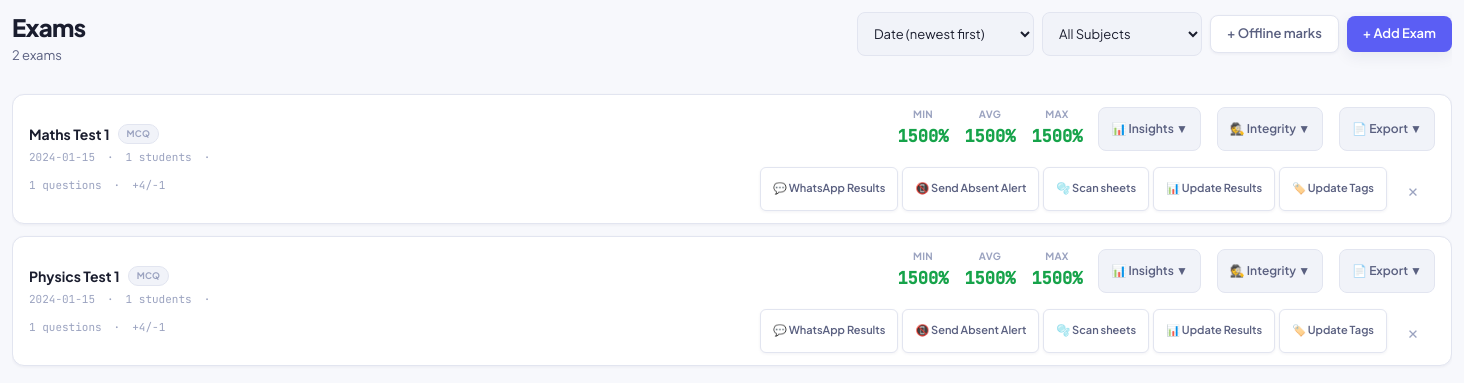
Scenario: Exams page — exam list filtering › restores all cards when switching back to "All Subjects"
Select "Maths" in the dropdown named "subject" at (1122, 34), box [1042,12,1202,56]
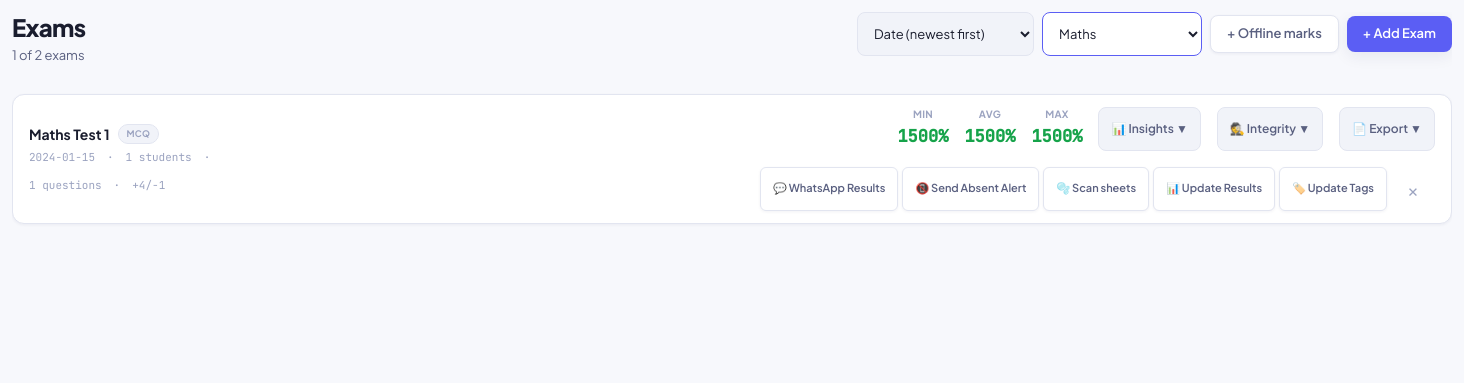
expect the text "Physics Test 1" is gone: met
Select "All Subjects" in the dropdown named "subject" at (1122, 34), box [1042,12,1202,56]
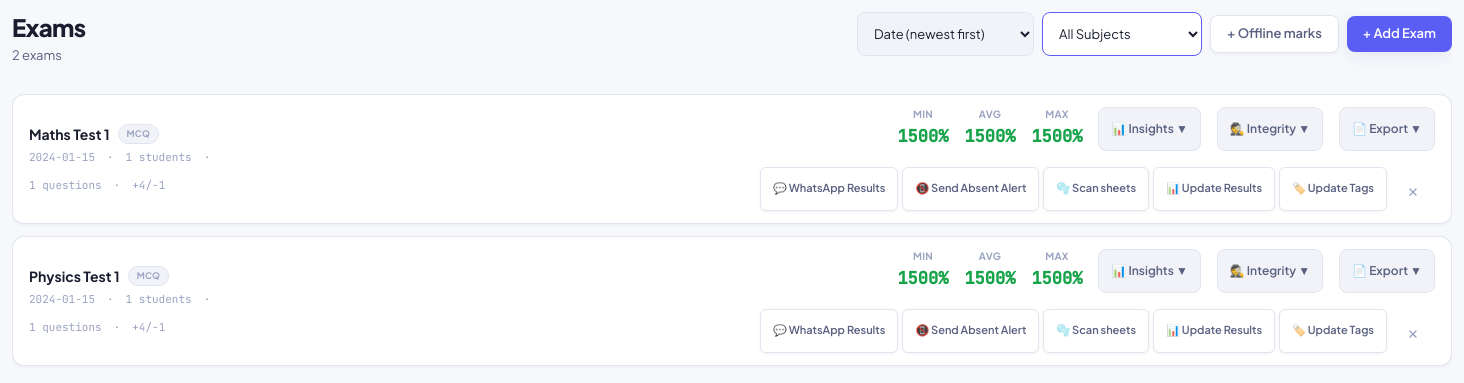
expect the text "Maths Test 1" is shown: met, box [29,124,110,142]
expect the text "Physics Test 1" is shown: met, box [29,266,120,284]
